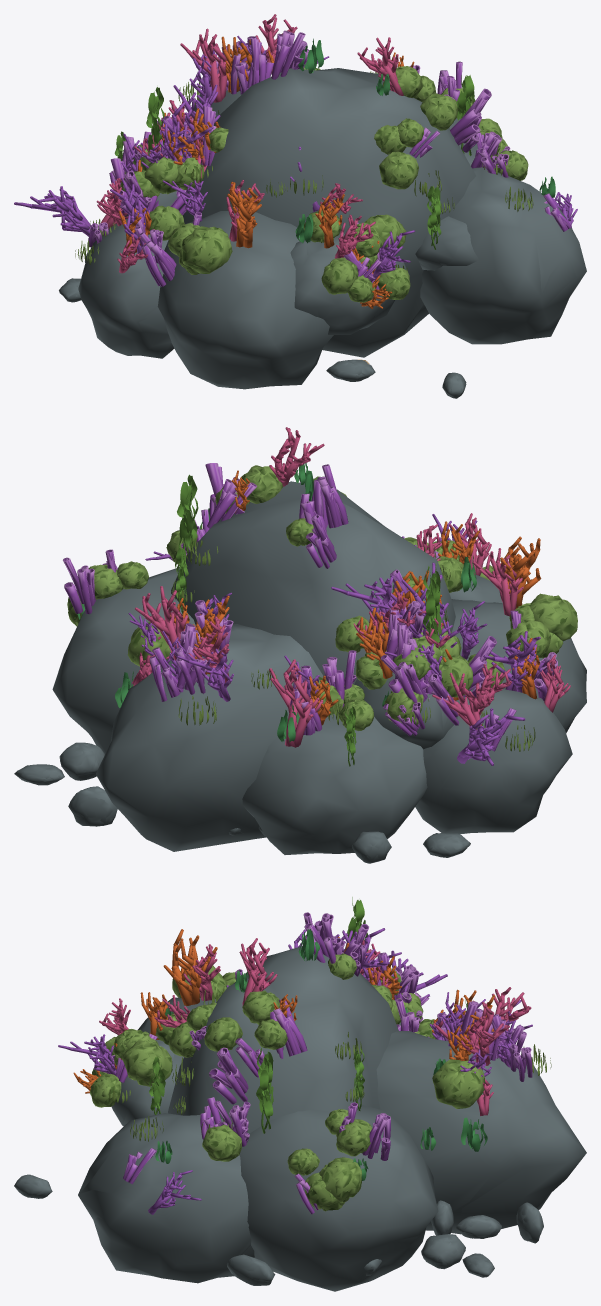
File: large.glb
3 renders of one model, top to bottom at view 1: azimuth 30°, elevation 25°; view 2: azimuth 150°, elevation 25°; view 3: azimuth 270°, elevation 25°, orthographic. The views are drawn at different scales.
Parts seen in each view (by area): view 1: large_rock, large_rock_low, large_coral, large_coral_low, large_vegetation, large_vegetation_low; view 2: large_rock, large_coral, large_rock_low, large_coral_low, large_vegetation, large_vegetation_low; view 3: large_rock_low, large_rock, large_coral, large_coral_low, large_vegetation, large_vegetation_low.
Part boxes in pixels (left/top/right/bottom): large_rock: left=59, top=68, right=586, bottom=398; large_rock_low: left=59, top=68, right=579, bottom=398; large_coral: left=14, top=14, right=577, bottom=363; large_coral_low: left=14, top=14, right=577, bottom=363; large_vegetation: left=75, top=38, right=555, bottom=270; large_vegetation_low: left=75, top=39, right=555, bottom=271; large_rock: left=14, top=489, right=586, bottom=863; large_coral: left=63, top=427, right=577, bottom=765; large_rock_low: left=14, top=481, right=586, bottom=863; large_coral_low: left=64, top=427, right=577, bottom=765; large_vegetation: left=77, top=463, right=535, bottom=766; large_vegetation_low: left=77, top=463, right=535, bottom=766; large_rock_low: left=14, top=956, right=585, bottom=1288; large_rock: left=15, top=946, right=586, bottom=1291; large_coral: left=58, top=912, right=532, bottom=1214; large_coral_low: left=58, top=913, right=532, bottom=1213; large_vegetation: left=108, top=897, right=550, bottom=1180; large_vegetation_low: left=106, top=900, right=551, bottom=1178.
Bounding box in the file's own units: 15.66 × 10.71 × 17.38.
